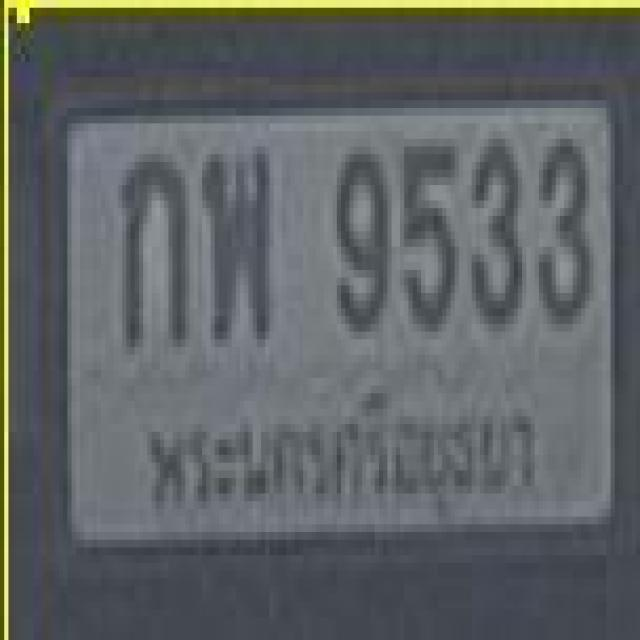license_plate: (32, 70, 633, 582)
